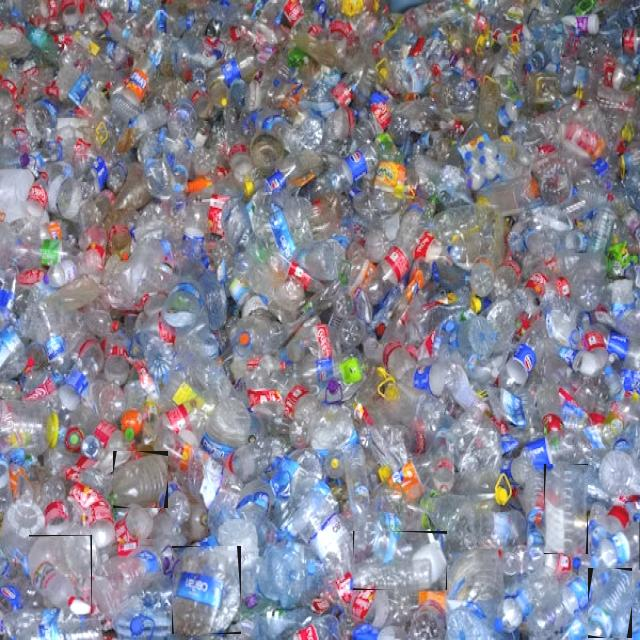Bottle: (171, 547, 240, 634), (353, 531, 445, 590), (28, 535, 90, 614), (544, 464, 586, 554), (587, 568, 631, 638), (113, 451, 166, 507), (590, 522, 639, 570)
